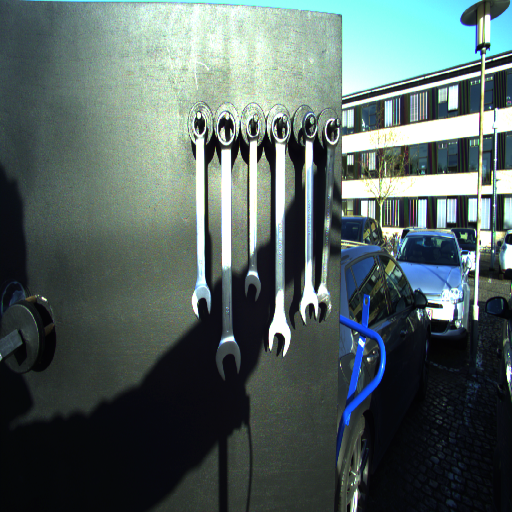bottom: (215, 341, 242, 381), (267, 321, 292, 358), (191, 286, 213, 320), (316, 287, 334, 324), (299, 290, 318, 325), (244, 271, 262, 301)
top: (213, 110, 238, 147), (268, 112, 293, 145), (300, 110, 320, 142), (321, 116, 341, 148), (189, 111, 209, 139), (244, 114, 261, 141)
